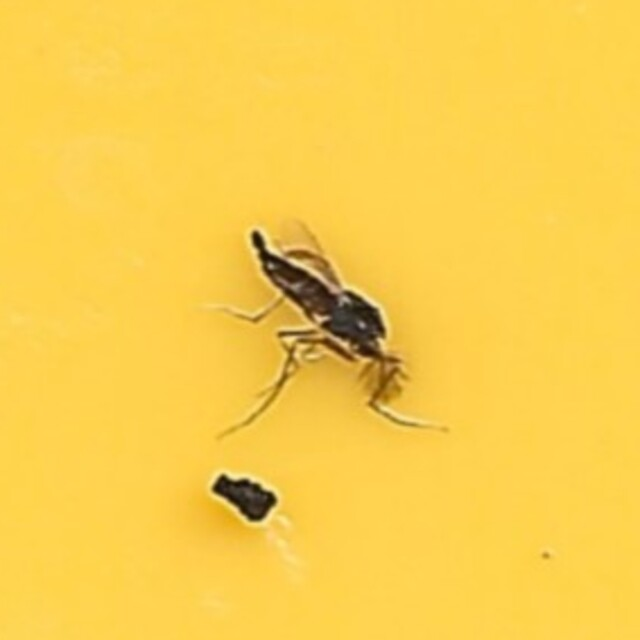Nematocera: (226, 214, 414, 426)
